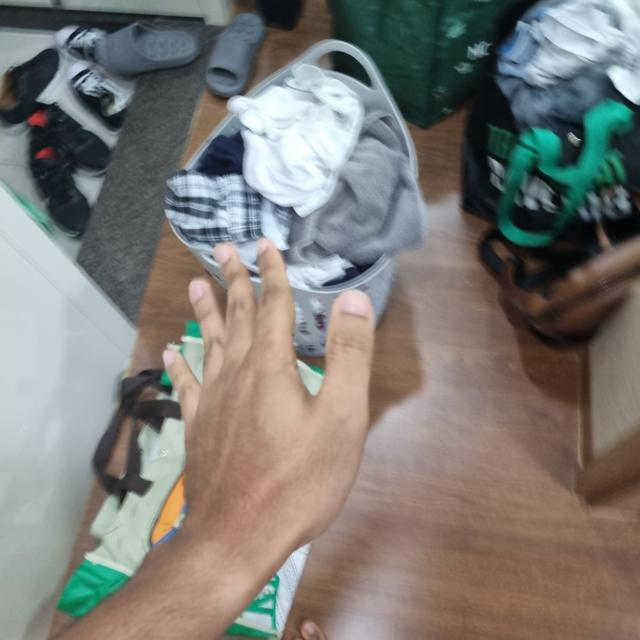Paper: (185, 118, 638, 639)
